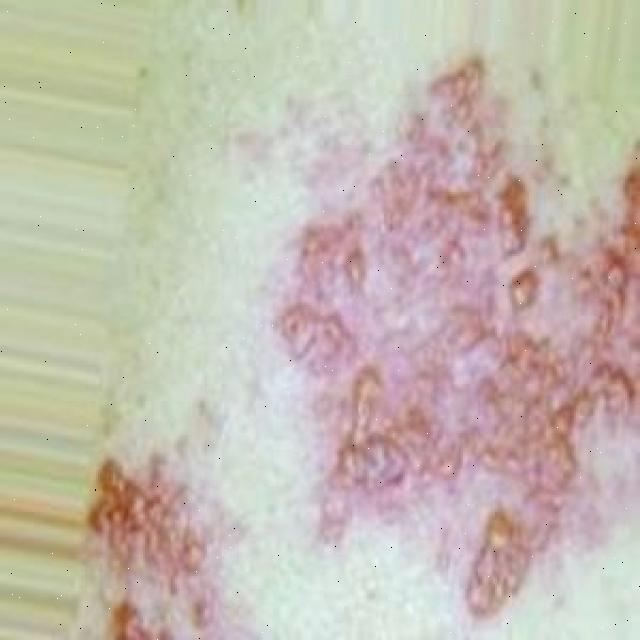Shingles: (270, 55, 640, 626), (82, 443, 250, 640)
